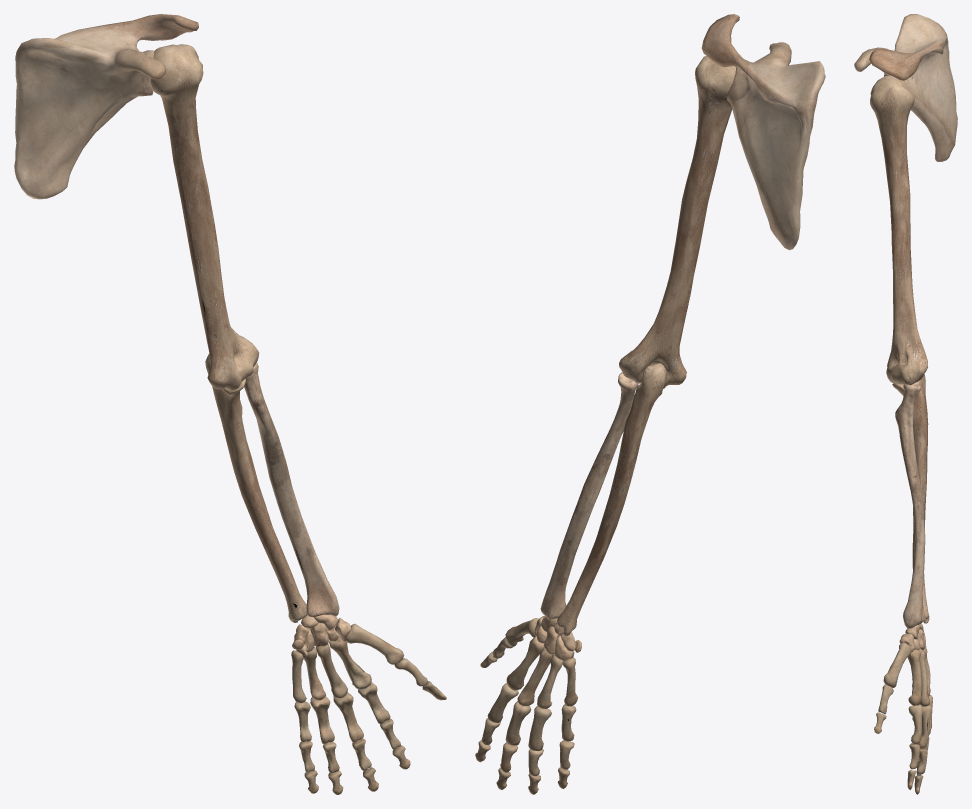
Rendered from Legs.104.obj.
3 renders of one model, left to right at view 1: azimuth 30°, elevation 25°; view 2: azimuth 150°, elevation 25°; view 3: azimuth 270°, elevation 25°, orthographic. The views are drawn at different scales.
Visible parts, largest first — view 1: Legs.104_Arms.104_Arms.001, Legs.104_Arms.104_Chest.001, Legs.104_Arms.104_Hands.001; view 2: Legs.104_Arms.104_Arms.001, Legs.104_Arms.104_Chest.001, Legs.104_Arms.104_Hands.001; view 3: Legs.104_Arms.104_Arms.001, Legs.104_Arms.104_Chest.001, Legs.104_Arms.104_Hands.001.
Part boxes in pixels (x1,y1,x2,y2): Legs.104_Arms.104_Arms.001: (150,44,339,622); Legs.104_Arms.104_Chest.001: (14,14,198,199); Legs.104_Arms.104_Hands.001: (291,614,446,794); Legs.104_Arms.104_Arms.001: (540,56,744,635); Legs.104_Arms.104_Chest.001: (701,14,825,250); Legs.104_Arms.104_Hands.001: (475,616,581,794); Legs.104_Arms.104_Arms.001: (870,75,929,628); Legs.104_Arms.104_Chest.001: (854,14,957,161); Legs.104_Arms.104_Hands.001: (874,623,932,794).
Bounding box in the file's own units: 1.85 × 3.84 × 0.5464.
